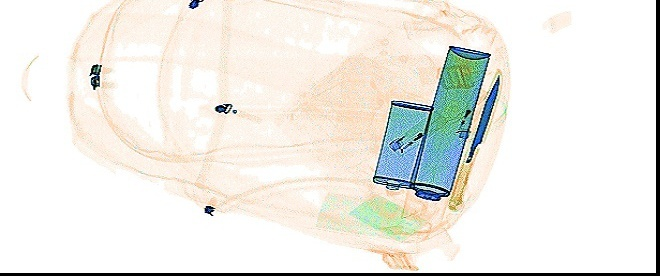knife: (446, 71, 499, 210)
lighter: (384, 107, 448, 157), (454, 85, 487, 140)
pressure: (401, 43, 492, 228)
zippooil: (369, 98, 434, 195)
